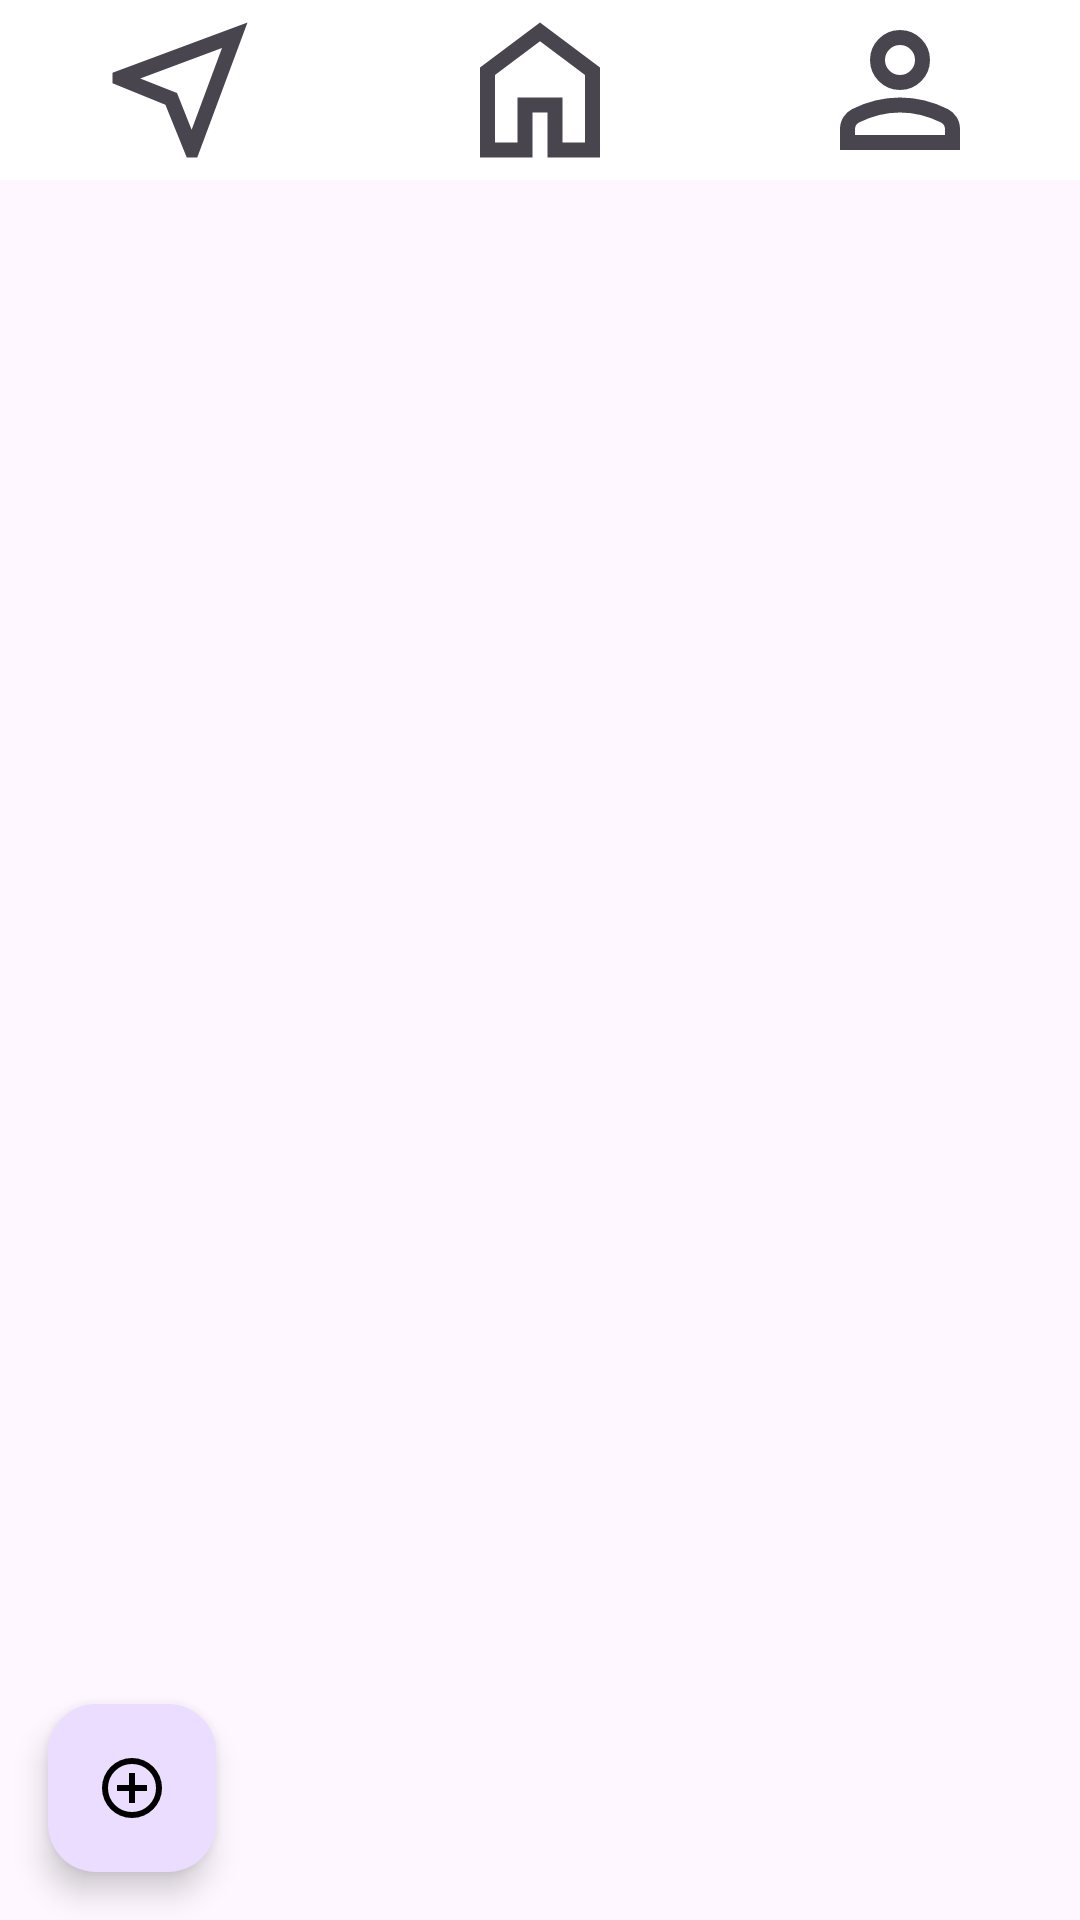

Named icons in this screenshot (1080 x 1920) and their centers, (x,y):
Open home button: (540,90)
Open profile button: (900,90)
plus: (132,1788)
